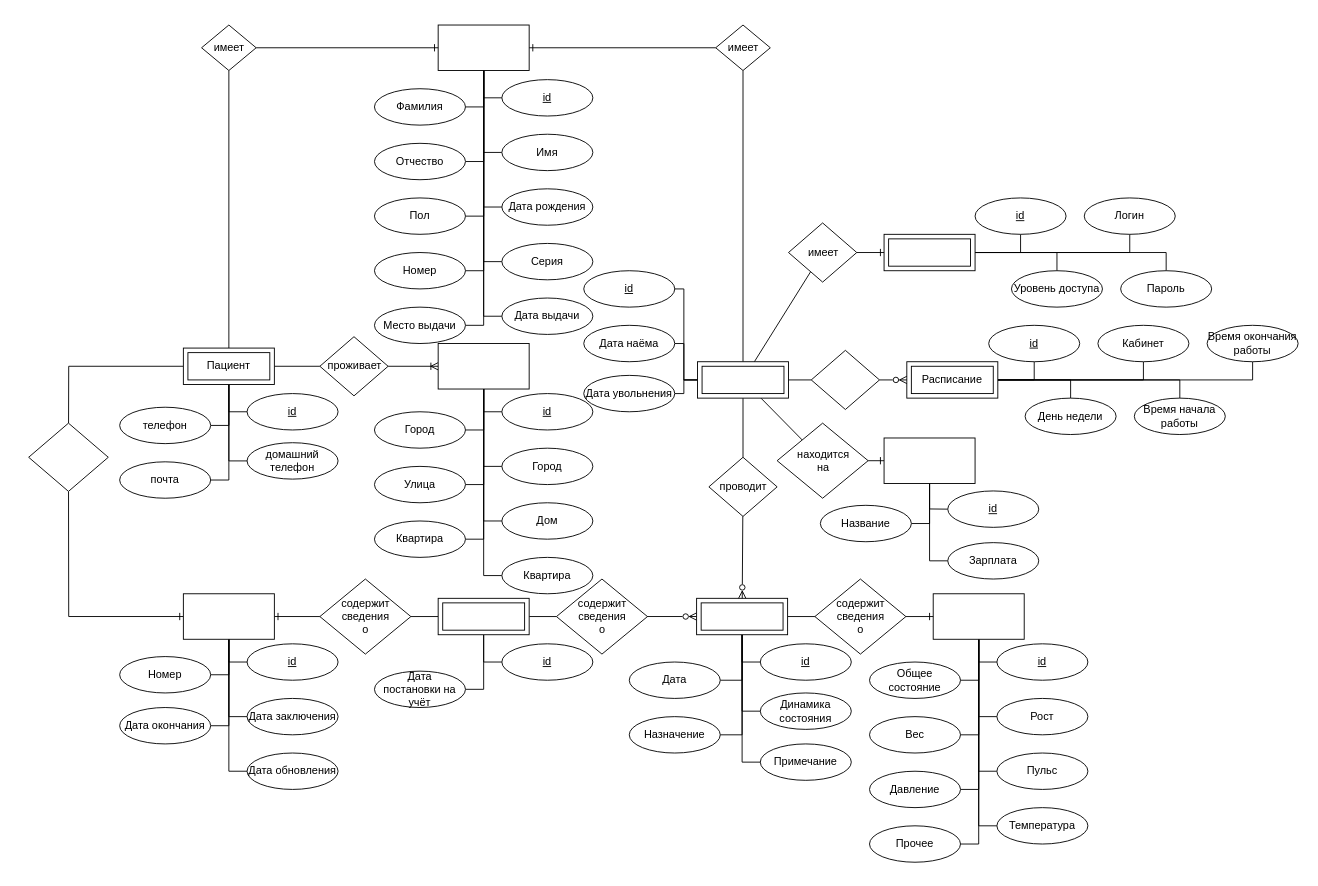
Image size: 1318x886. Some labels were removed from this diagram. Each missing label, with the box of its shape:
Адрес: (437, 343, 529, 389)
Договор: (182, 593, 274, 639)
Должность: (883, 437, 975, 483)
Доступ: (883, 233, 975, 271)
Мед.карта: (437, 597, 529, 635)
Паспорт: (437, 24, 529, 71)
подписывает: (28, 422, 108, 491)
Приём: (696, 597, 788, 635)
работает по: (810, 349, 880, 410)
Состояние: (932, 593, 1024, 639)
Сотрудник: (697, 361, 789, 398)
